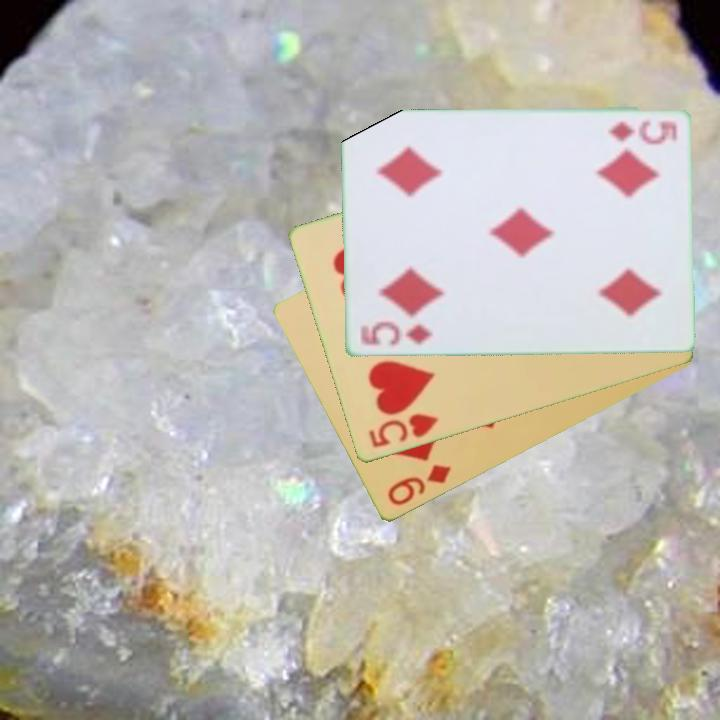5d: (355, 319, 435, 349), (604, 117, 680, 145)
5h: (365, 410, 442, 451)
9d: (383, 461, 455, 510)
